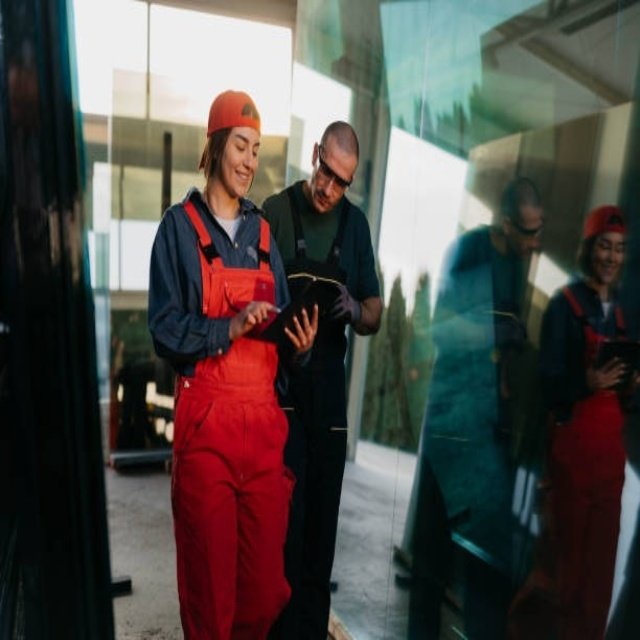Gafas: (317, 146, 351, 190), (508, 217, 543, 237)
Guantes: (323, 282, 361, 329)
Sin_gafas: (230, 133, 261, 157), (594, 241, 626, 256)
Sin_guantes: (231, 299, 283, 342), (282, 306, 318, 358), (592, 352, 635, 394)
Sin_mascara: (233, 165, 255, 193), (312, 187, 332, 215)
